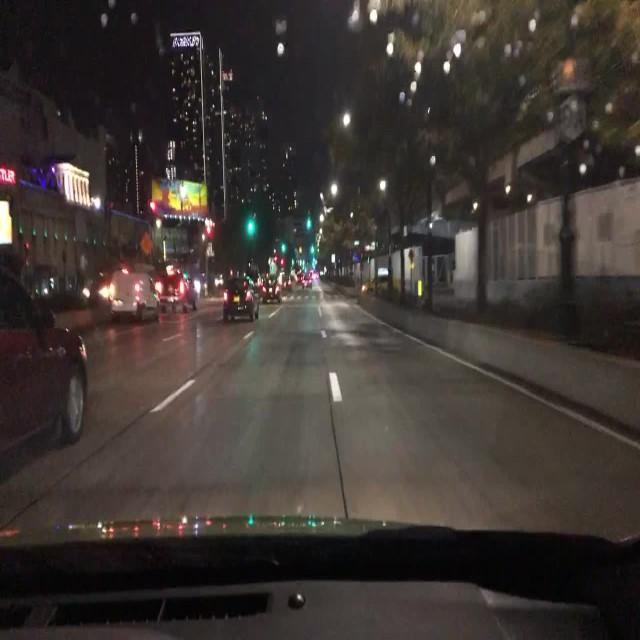normal: (0, 271, 88, 458), (100, 269, 162, 322), (221, 282, 258, 321)
